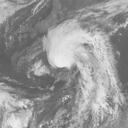cyclone: (44, 19, 94, 70)
